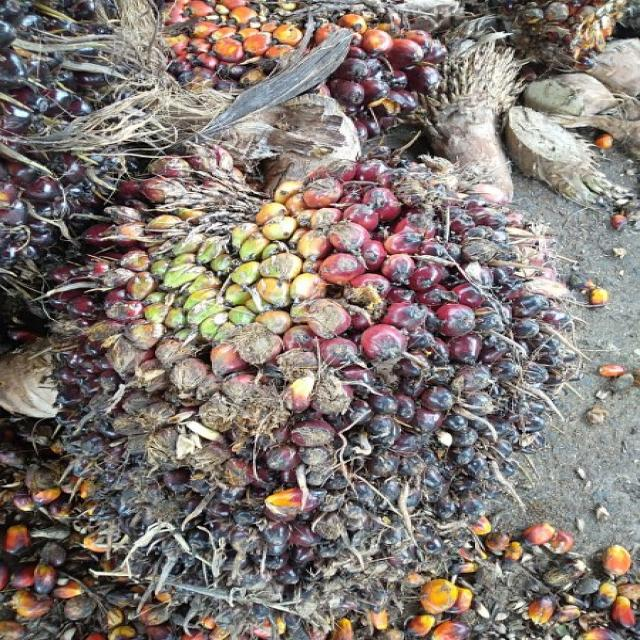fraksi 00: (54, 130, 553, 607)
